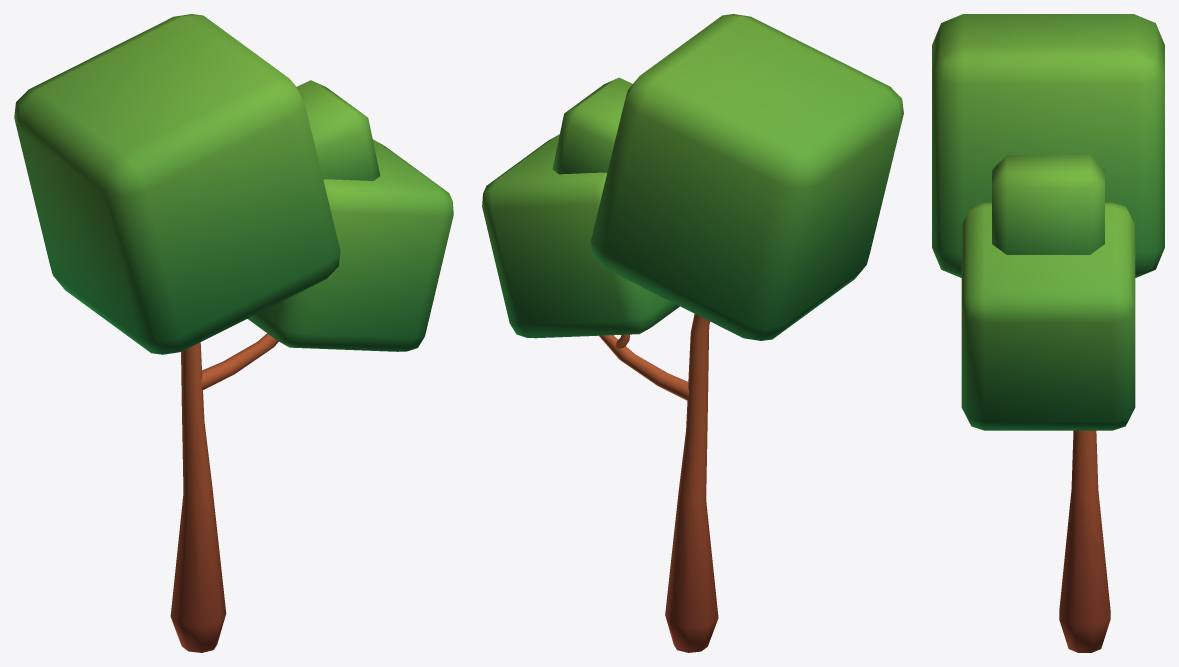
Rendered from kk-tree-cube.glb.
3 views of the same model, side by side, from view 1: azimuth 30°, elevation 25°; view 2: azimuth 150°, elevation 25°; view 3: azimuth 270°, elevation 25° (orthographic). The views are drawn at different scales.
Visible parts, largest first — view 1: Tree_2_B_Color1; view 2: Tree_2_B_Color1; view 3: Tree_2_B_Color1.
Part boxes in pixels (x1,y1,x2,y2): Tree_2_B_Color1: (14, 14, 453, 652); Tree_2_B_Color1: (482, 14, 903, 652); Tree_2_B_Color1: (932, 14, 1164, 652).
Size of the model in its own units: 3.7 by 6.04 by 2.1.
1 material, 1 textured.
